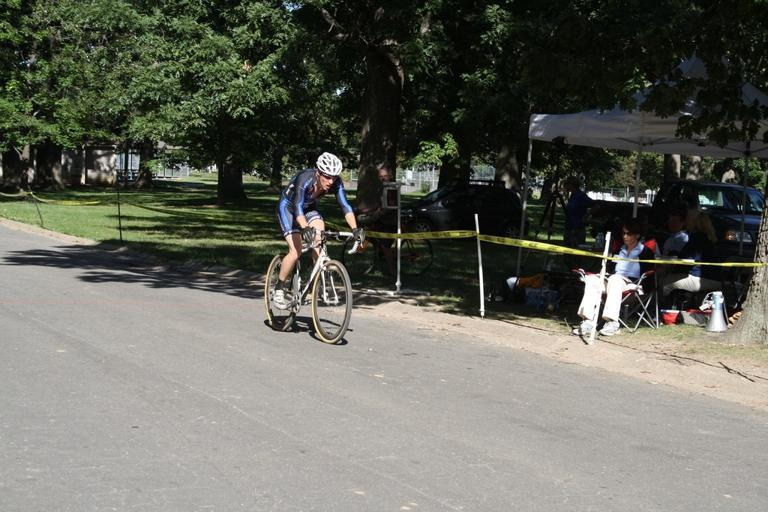non-vehicle: (263, 229, 363, 344), (339, 219, 435, 290)
